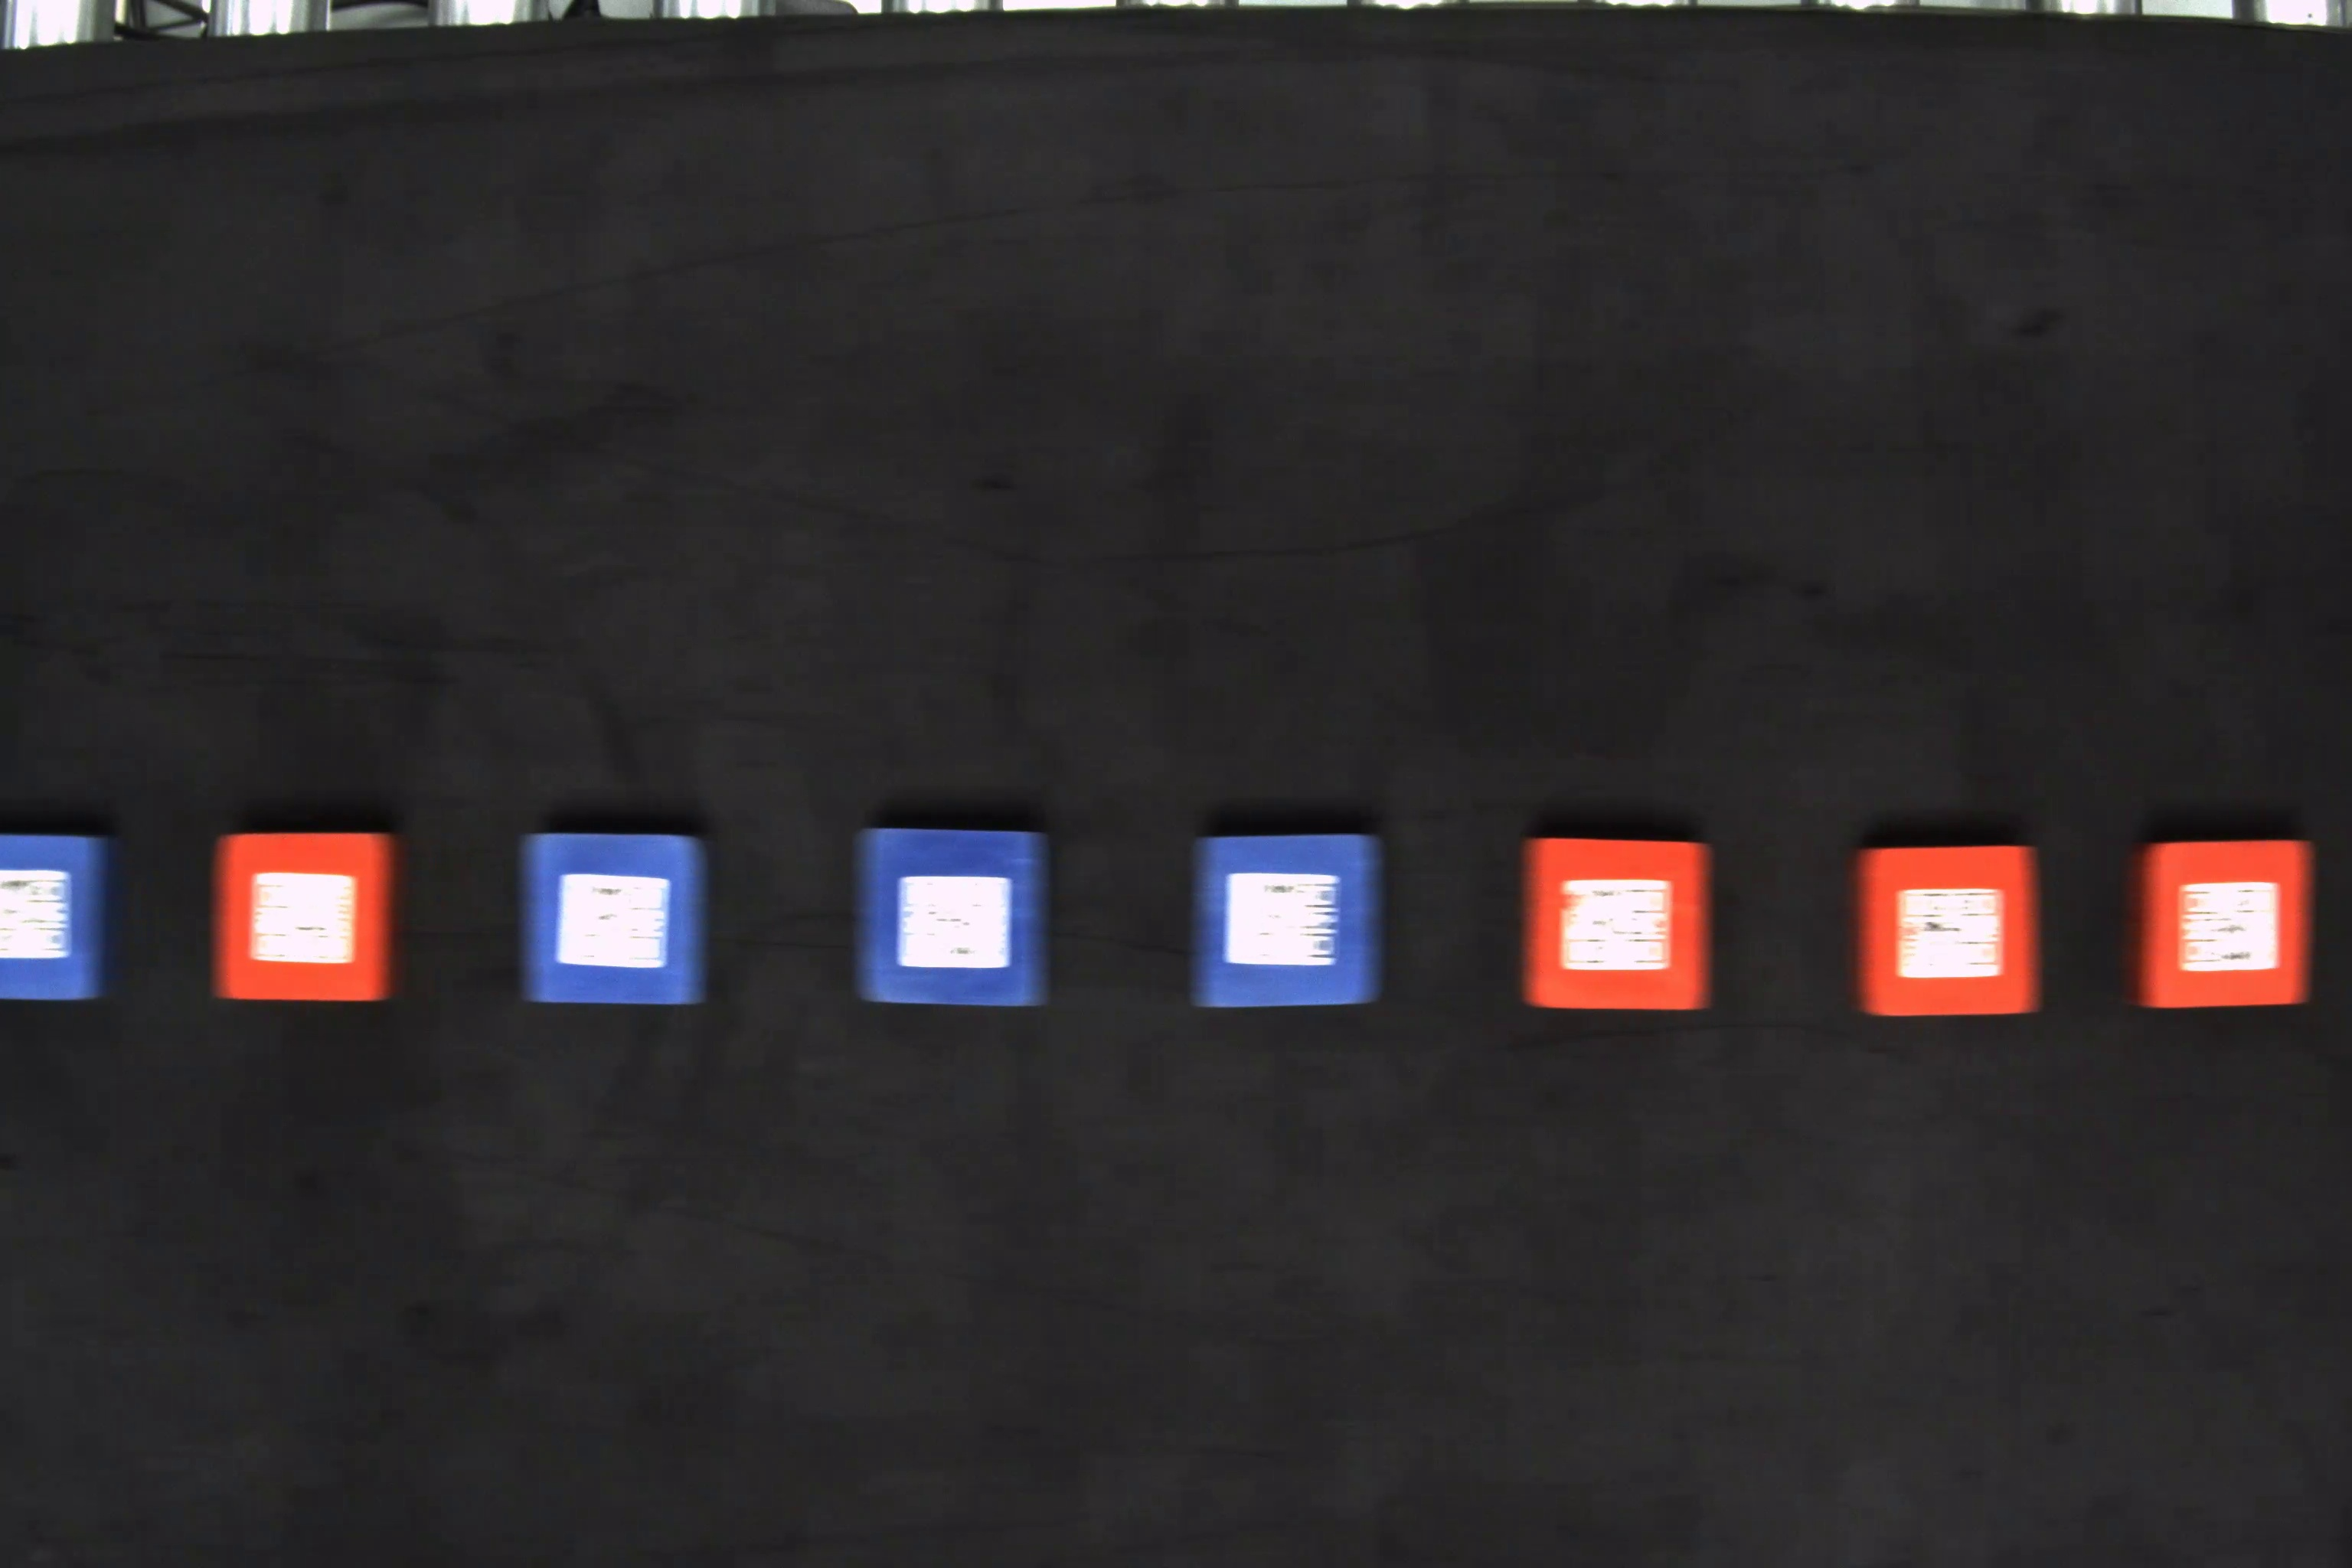wood: (1519, 826, 1713, 1018), (852, 822, 1050, 1011), (1844, 843, 2047, 1022), (516, 826, 709, 1006), (1193, 833, 1391, 1008), (212, 833, 397, 1004), (2126, 836, 2310, 1008), (2, 828, 115, 1006)
